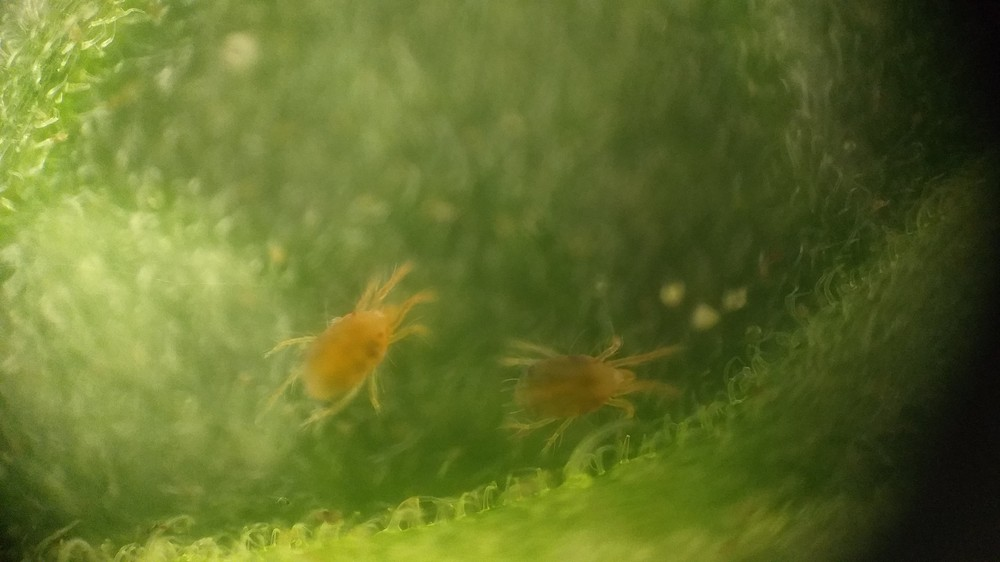Aracnido Rojo: (234, 239, 450, 437), (481, 301, 710, 454)
